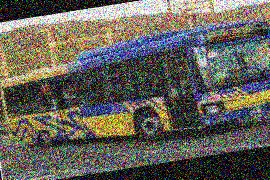bus: (0, 14, 270, 163)
